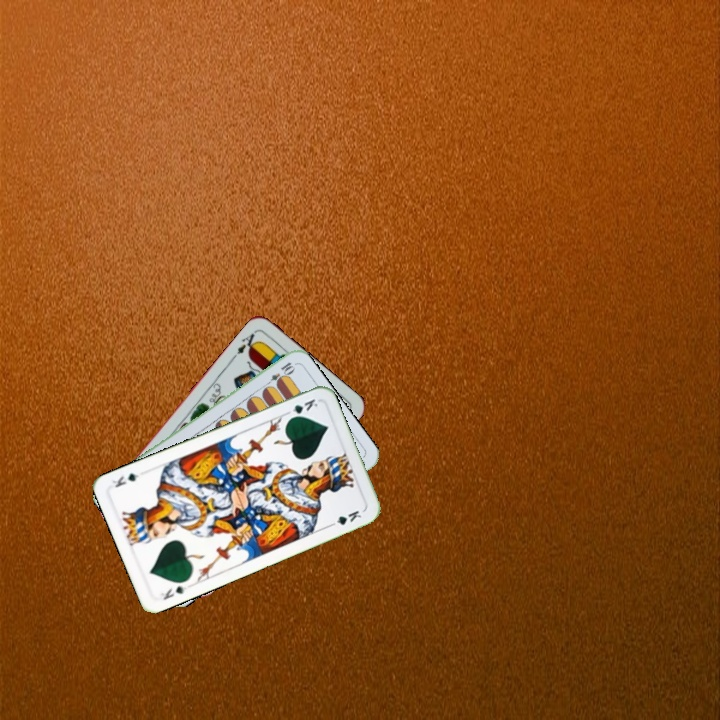E10: (261, 358, 297, 390)
EA: (233, 327, 261, 357)
GK: (284, 395, 320, 422), (156, 582, 189, 603)
